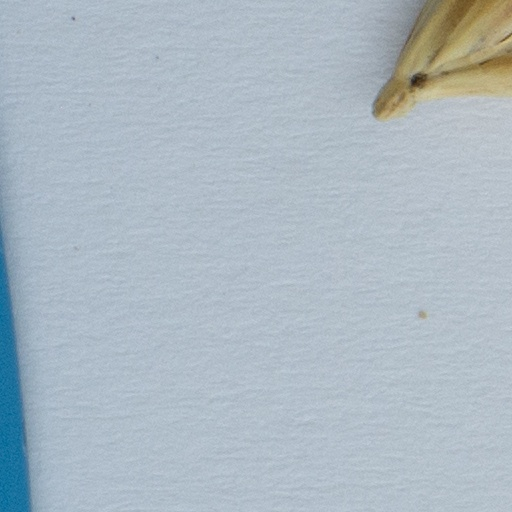Peel-poly: (374, 0, 511, 122)
